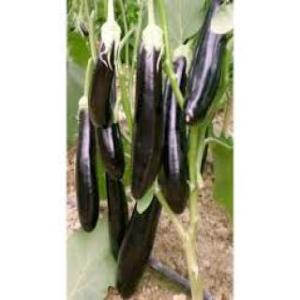eggplant: (184, 8, 235, 120), (131, 32, 165, 195), (117, 188, 161, 294), (164, 46, 188, 212), (90, 22, 120, 126), (78, 96, 98, 232)
